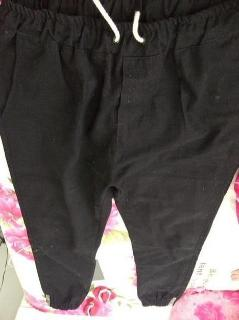trousers: (0, 0, 239, 310)
